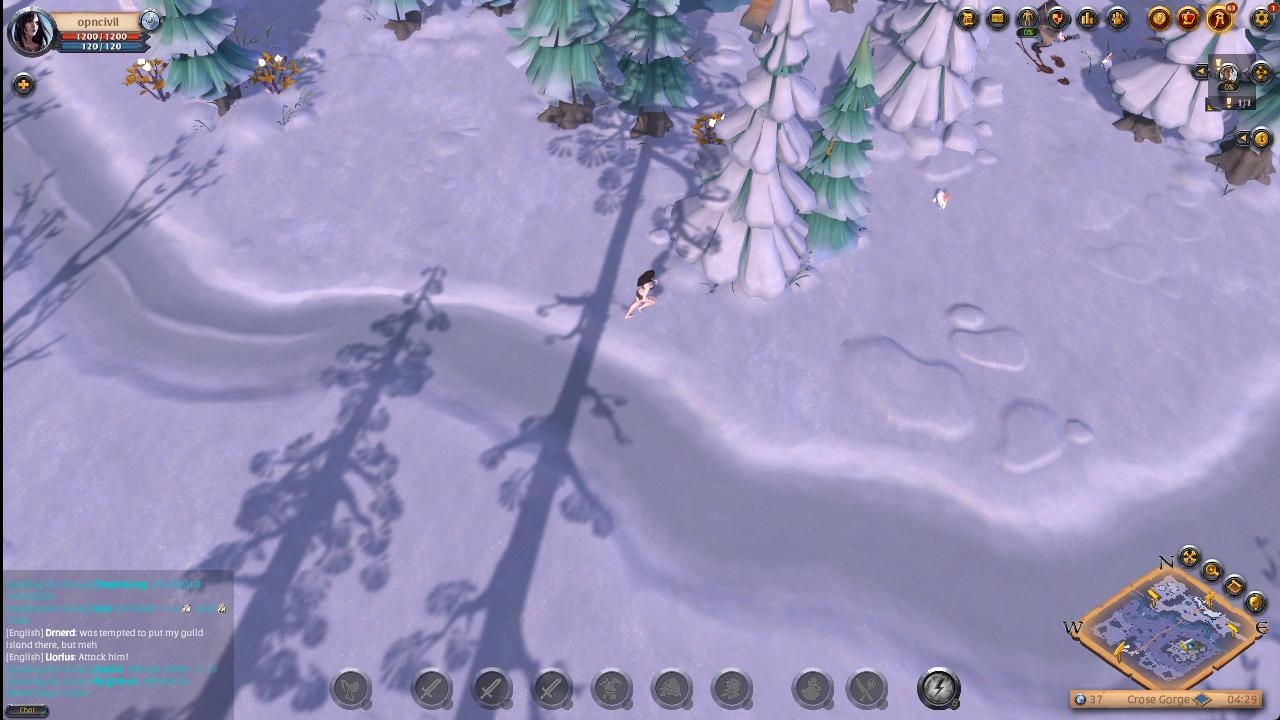cotton: (248, 47, 303, 100), (122, 56, 170, 104), (689, 110, 727, 148)
